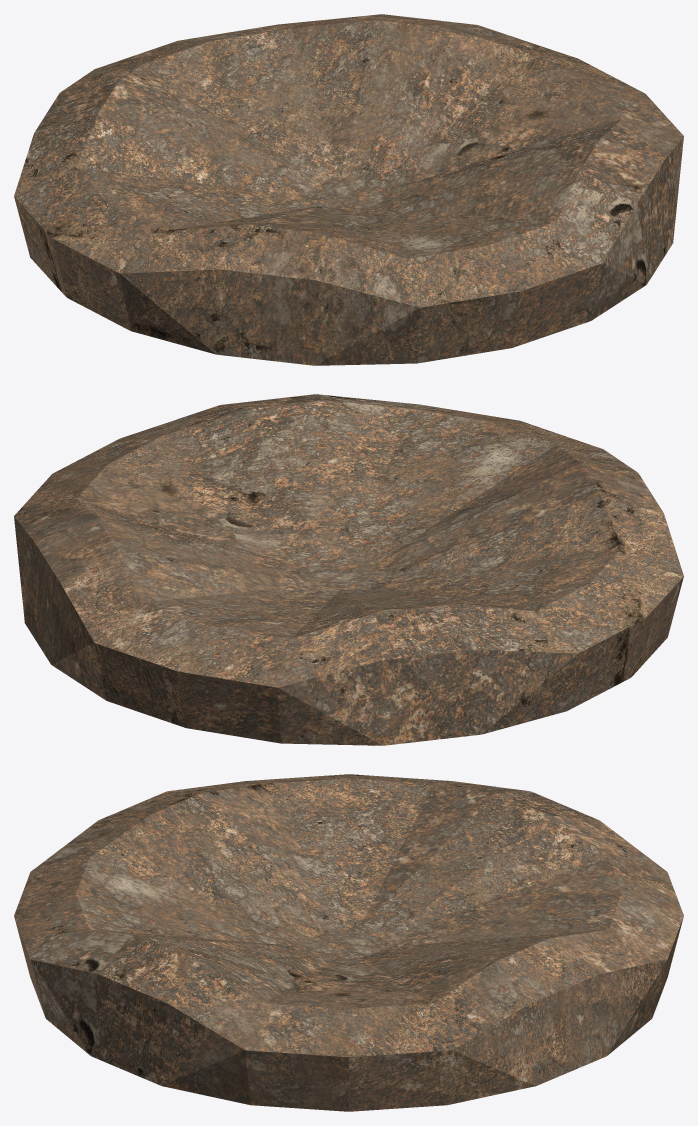
Rendered from chip.dae.
The picture shows the model from 3 angles, top to bottom: view 1: azimuth 30°, elevation 25°; view 2: azimuth 150°, elevation 25°; view 3: azimuth 270°, elevation 25°; orthographic projection. The views are drawn at different scales.
Visible parts, largest first — view 1: Mesh; view 2: Mesh; view 3: Mesh.
Part boxes in pixels (box(x1,y1,x2,y2)): Mesh: box(14, 14, 683, 365); Mesh: box(14, 394, 683, 745); Mesh: box(14, 774, 683, 1111).
Bounding box in the file's own units: 1.74 × 1.74 × 0.2872.
